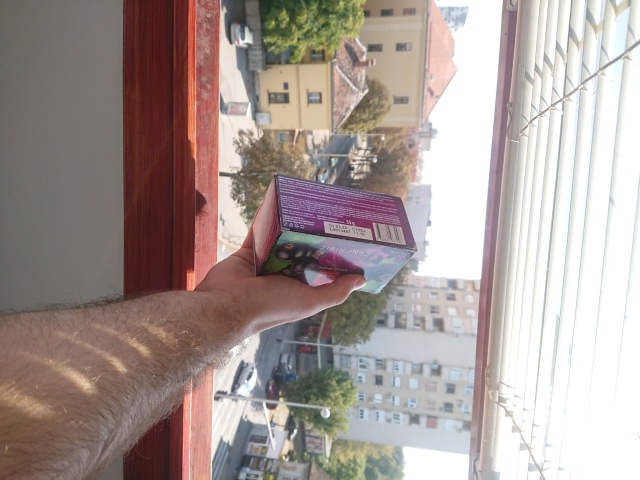Franck Black Currant Tea 60g: (249, 172, 420, 297)
